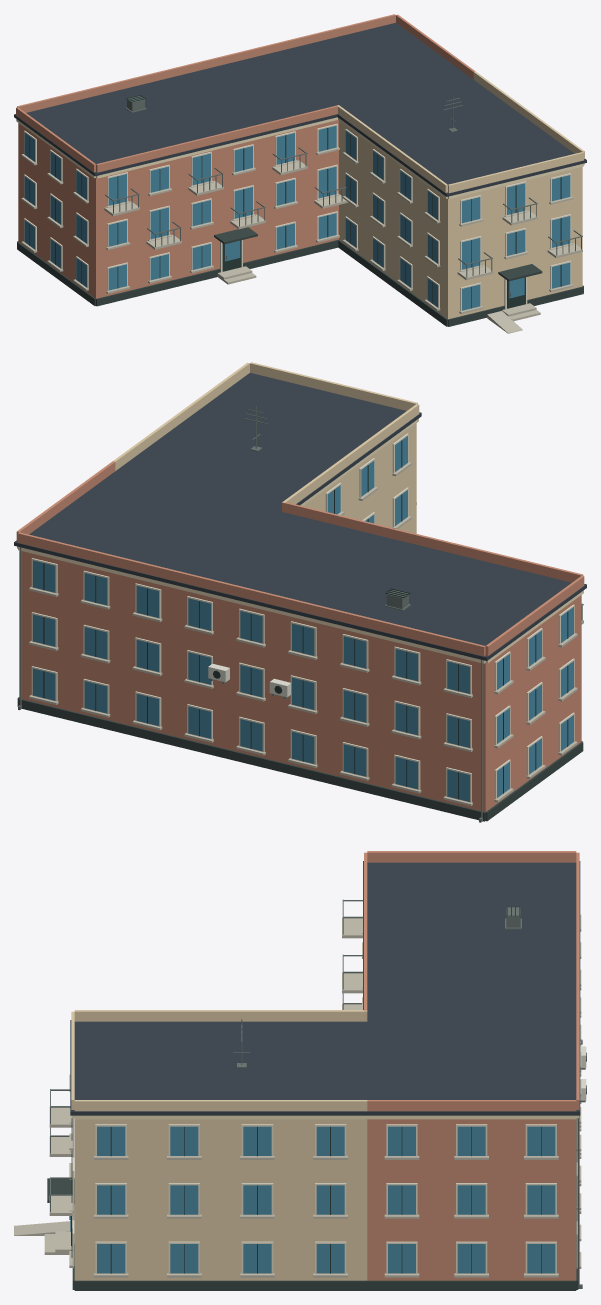
The model's file is LCorner3.obj.
3 renders of one model, top to bottom at view 1: azimuth 30°, elevation 25°; view 2: azimuth 150°, elevation 25°; view 3: azimuth 270°, elevation 25°, orthographic. The views are drawn at different scales.
Visible parts, largest first — view 1: LCorner3; view 2: LCorner3; view 3: LCorner3.
Boxes of the visible parts, x1,y1,x2,y2 form: LCorner3: (14, 14, 586, 333); LCorner3: (14, 362, 586, 822); LCorner3: (14, 851, 586, 1290).
Size of the model in its own units: 28.5 by 11.95 by 27.42.
Materials: 1 (1 with a texture image).
